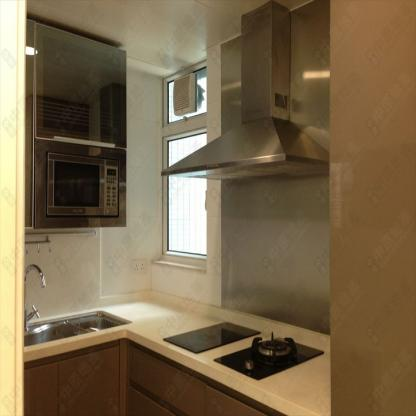Exhaust Fan: (172, 71, 196, 114)
Exhaust Hood: (160, 1, 332, 180)
Faucet: (23, 261, 46, 322)
Microwave: (47, 152, 121, 216)
Sink: (26, 311, 132, 345)
Stove: (213, 330, 324, 381), (163, 320, 263, 354)
